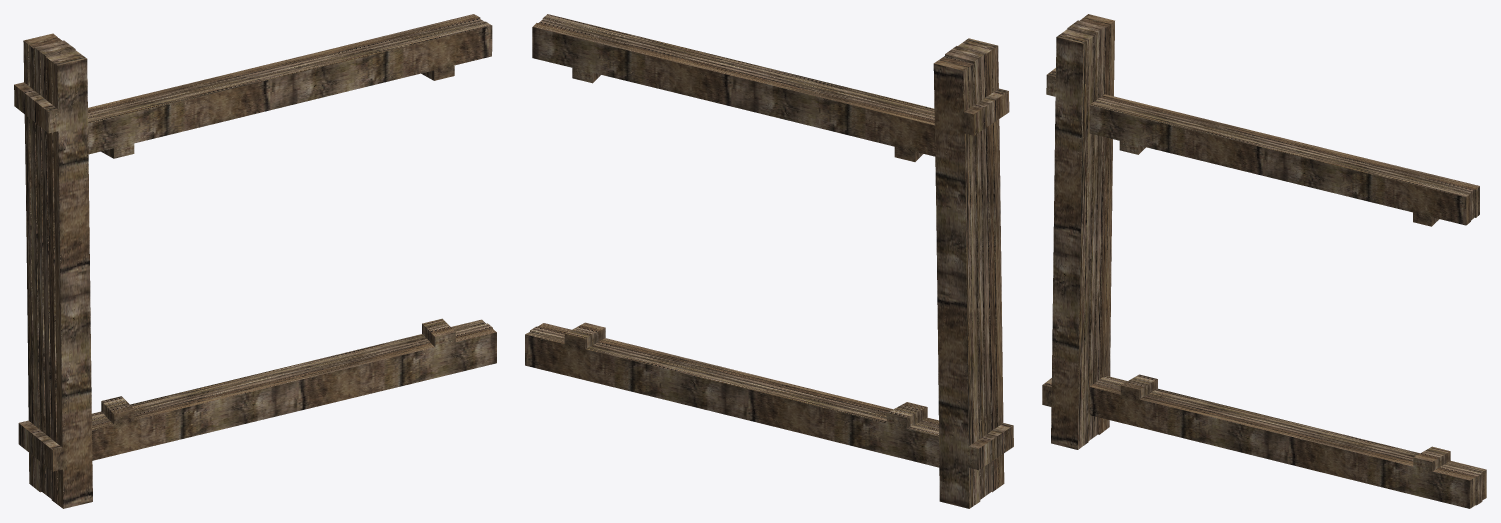
The model's file is WindBoxHandle.fbx.
3 views of the same model, side by side, from view 1: azimuth 30°, elevation 25°; view 2: azimuth 150°, elevation 25°; view 3: azimuth 330°, elevation 25° (orthographic). The views are drawn at different scales.
Parts seen in each view (by area): view 1: objObject34.005; view 2: objObject34.005; view 3: objObject34.005.
Boxes of the visible parts, x1,y1,x2,y2 form: objObject34.005: [14, 14, 496, 508]; objObject34.005: [525, 14, 1013, 508]; objObject34.005: [1042, 14, 1486, 508].
Bounding box in the file's own units: 352 × 324 × 53.95.
